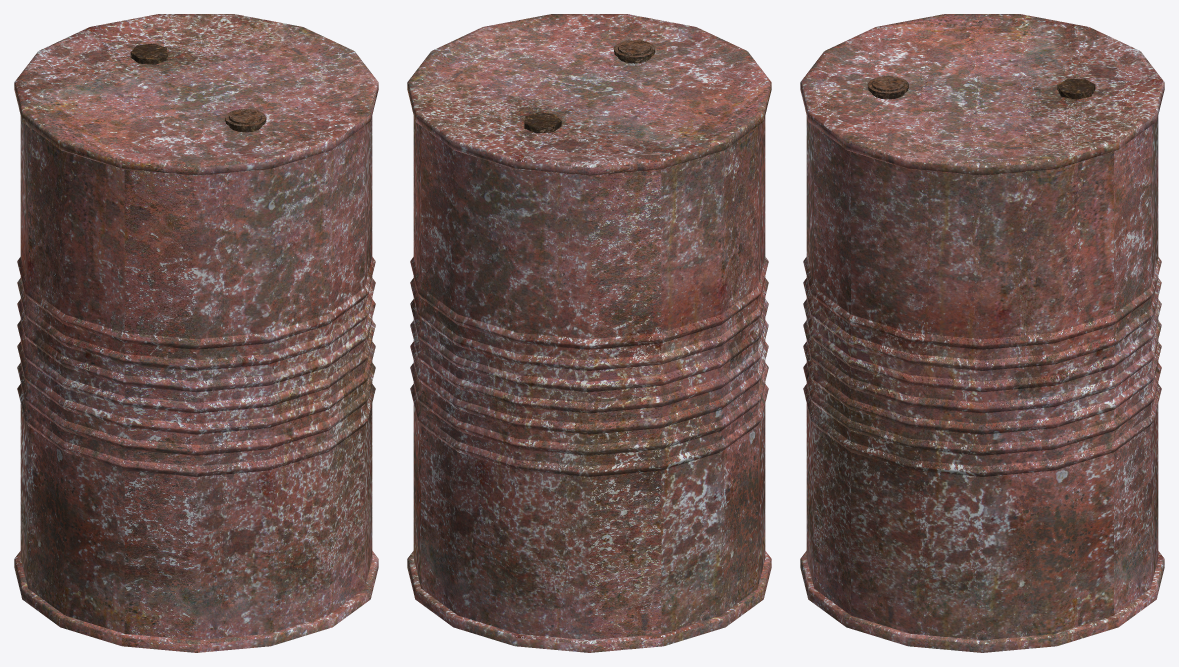
The model's file is RustyBarrel_LOD1.FBX.
3 renders of one model, left to right at view 1: azimuth 30°, elevation 25°; view 2: azimuth 150°, elevation 25°; view 3: azimuth 270°, elevation 25°, orthographic.
Parts seen in each view (by area): view 1: RustyBarrel_LOD1; view 2: RustyBarrel_LOD1; view 3: RustyBarrel_LOD1.
Part boxes in pixels (bbox=[...]): RustyBarrel_LOD1: bbox=[14, 14, 378, 652]; RustyBarrel_LOD1: bbox=[407, 14, 771, 652]; RustyBarrel_LOD1: bbox=[800, 14, 1164, 652].
Bounding box in the file's own units: 56.85 × 85.4 × 57.16.
